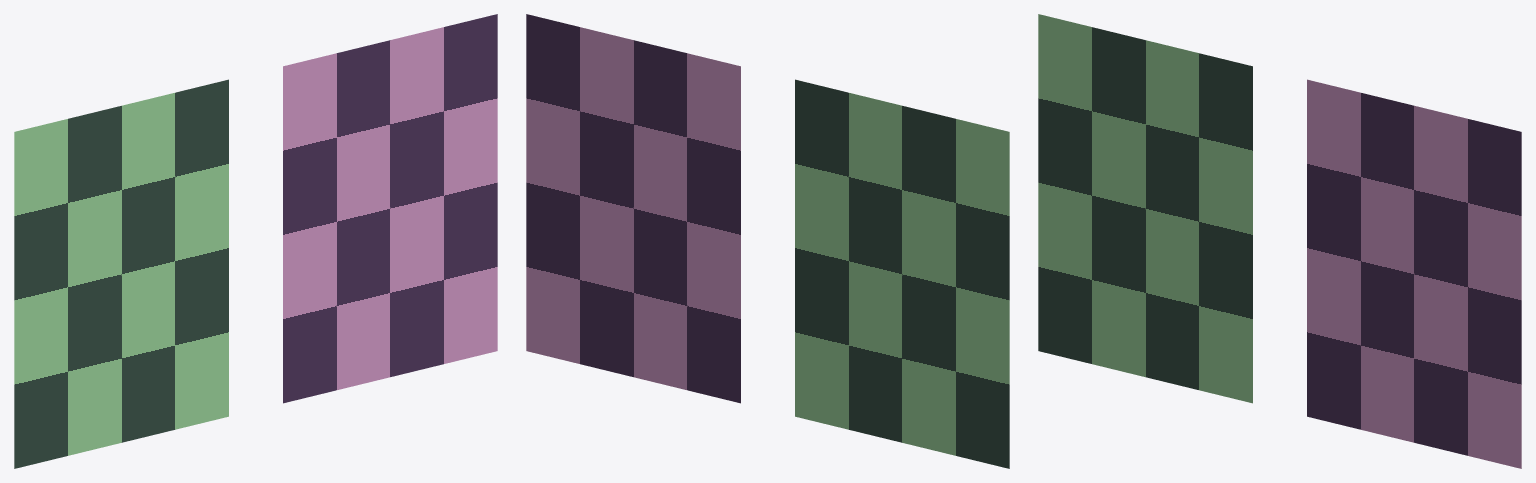
Rendered from scene_content.gltf.
3 renders of one model, left to right at view 1: azimuth 30°, elevation 25°; view 2: azimuth 150°, elevation 25°; view 3: azimuth 330°, elevation 25°, orthographic.
Parts seen in each view (by area): view 1: left, right; view 2: left, right; view 3: left, right.
Part boxes in pixels (left/top/right/bottom): left: left=14, top=79, right=228, bottom=468; right: left=283, top=14, right=497, bottom=403; left: left=795, top=79, right=1009, bottom=468; right: left=526, top=14, right=740, bottom=403; left: left=1038, top=14, right=1252, bottom=403; right: left=1307, top=79, right=1521, bottom=468.
Bounding box in the file's own units: 3.6 × 2.4 × 0.
2 materials, 2 textured.
